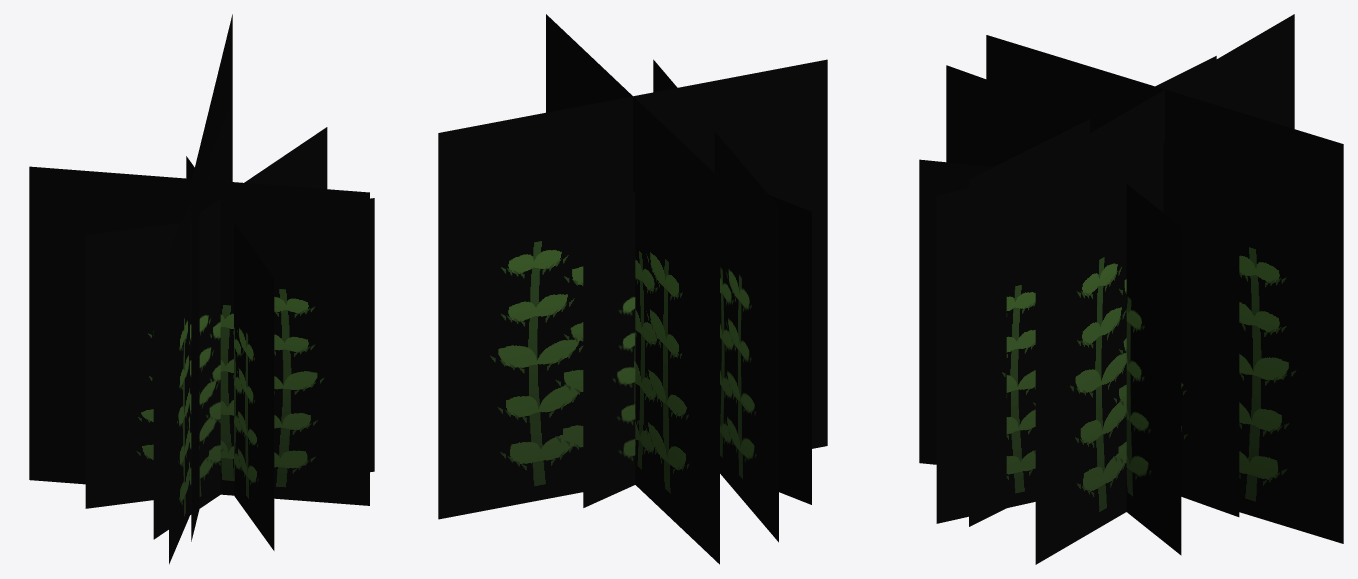
The model's file is prop_flora_nettle.glb.
3 renders of one model, left to right at view 1: azimuth 30°, elevation 25°; view 2: azimuth 150°, elevation 25°; view 3: azimuth 270°, elevation 25°, orthographic. The views are drawn at different scales.
Parts seen in each view (by area): view 1: nettle_2, nettle_3, nettle_0, nettle_1; view 2: nettle_1, nettle_3, nettle_2; view 3: nettle_1, nettle_2, nettle_0, nettle_3.
Boxes of the visible parts, bbox=[...] form: nettle_2: bbox=[29, 108, 369, 564]; nettle_3: bbox=[85, 156, 374, 550]; nettle_0: bbox=[153, 127, 327, 539]; nettle_1: bbox=[191, 14, 232, 541]; nettle_1: bbox=[438, 14, 827, 564]; nettle_3: bbox=[583, 192, 811, 507]; nettle_2: bbox=[653, 59, 778, 542]; nettle_1: bbox=[986, 14, 1343, 564]; nettle_2: bbox=[946, 56, 1239, 526]; nettle_0: bbox=[936, 128, 1181, 555]; nettle_3: bbox=[919, 159, 993, 464].
Size of the model in its own units: 0.4049 by 0.4669 by 0.4492.
Materials: 1 (1 with a texture image).
